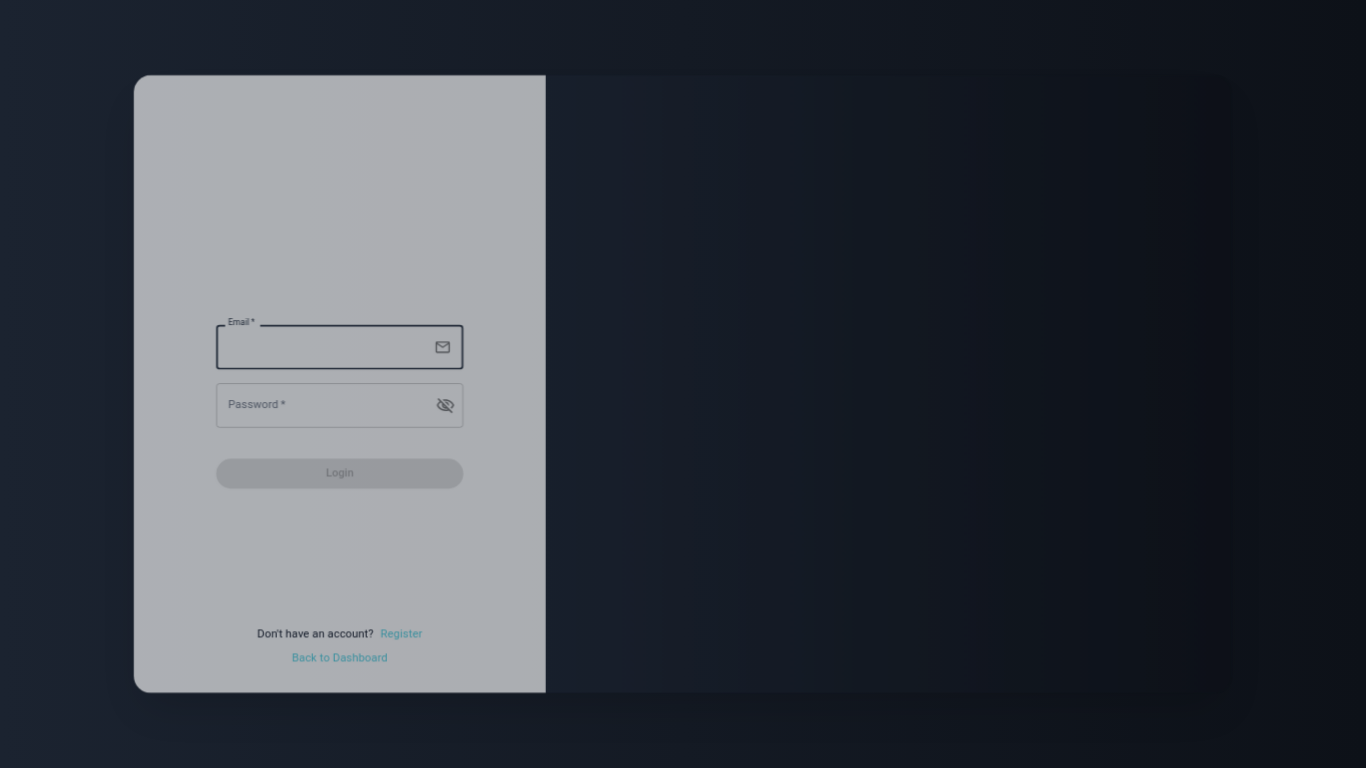
Test case: <LoginPage /> › displays email validation errors
Step 1. Type "test.com" into the field labelled "Email *" → x=322, y=347, box [216,325,427,370]
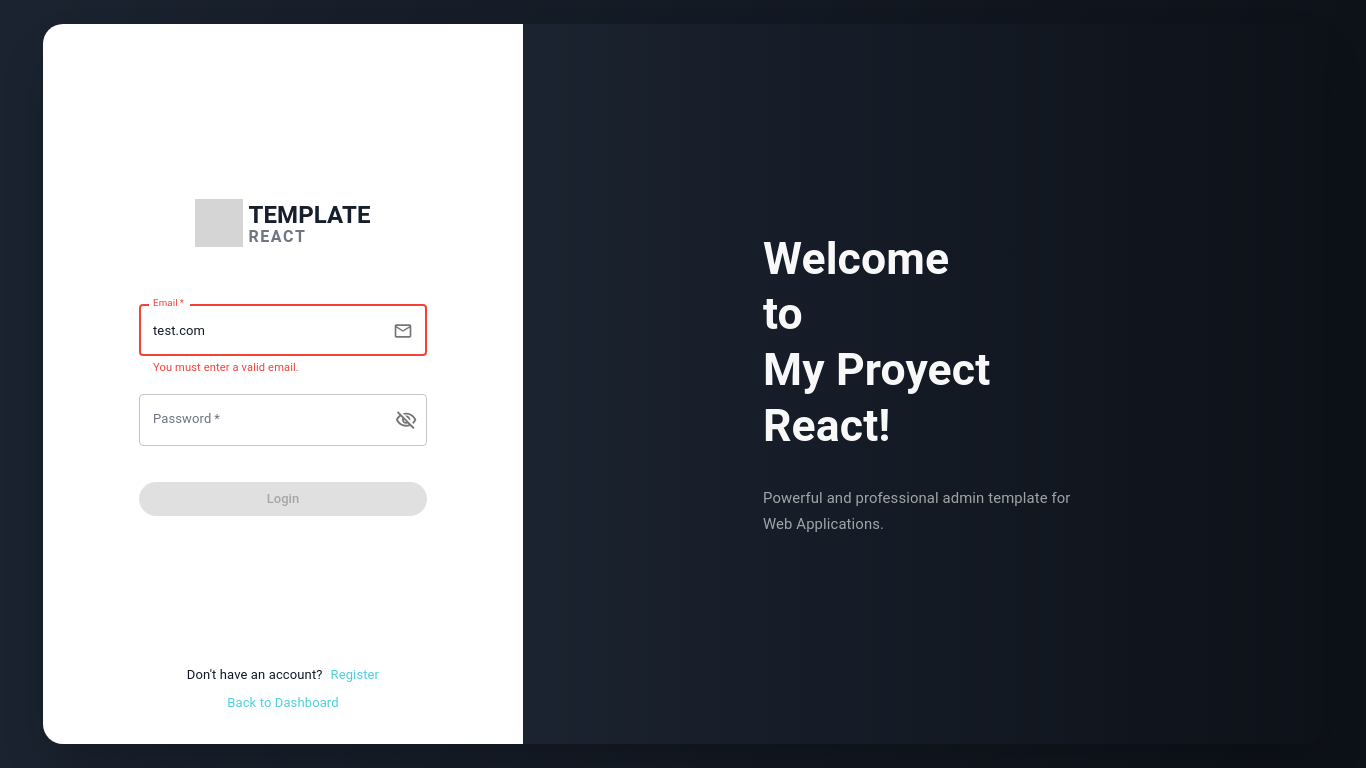
Now the text "You must enter a valid email." is shown, box [153,361,299,374]
Step 2. Clear the field labelled "Email *" → x=262, y=331, box [139,305,385,356]
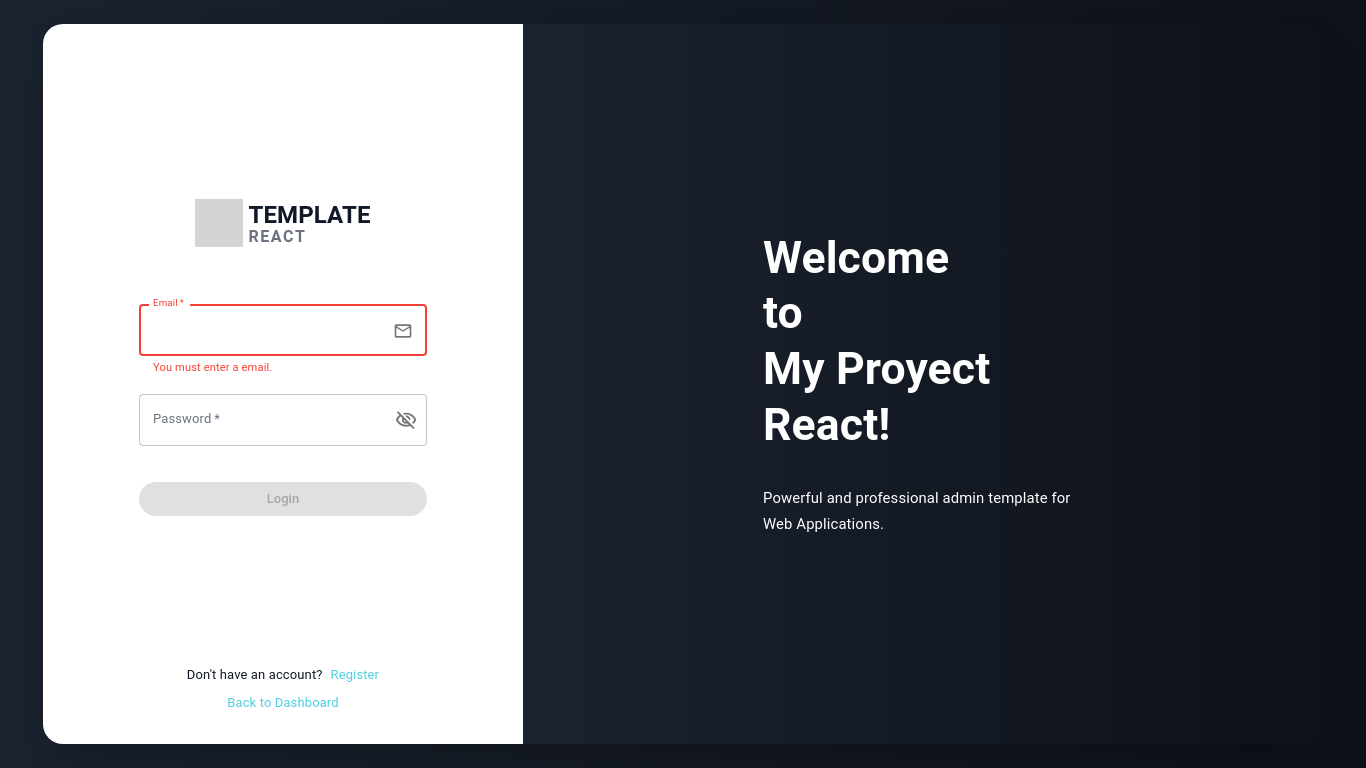
Now the text "You must enter a email." is shown, box [153,361,272,374]
